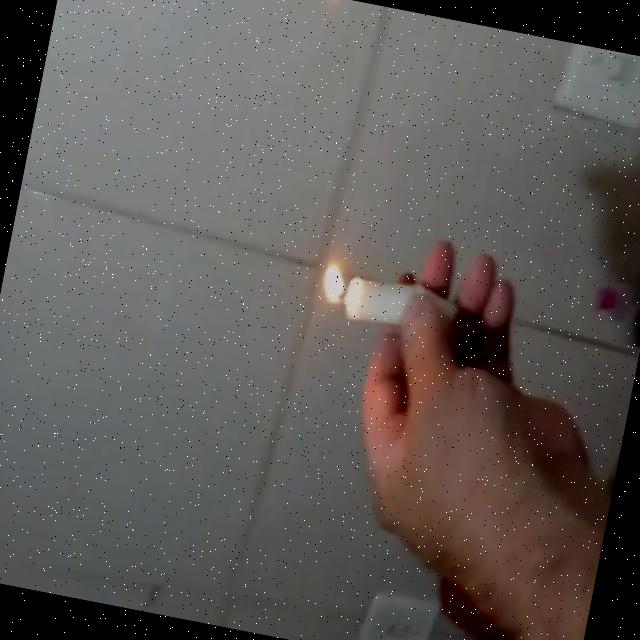fire: (313, 252, 355, 317)
